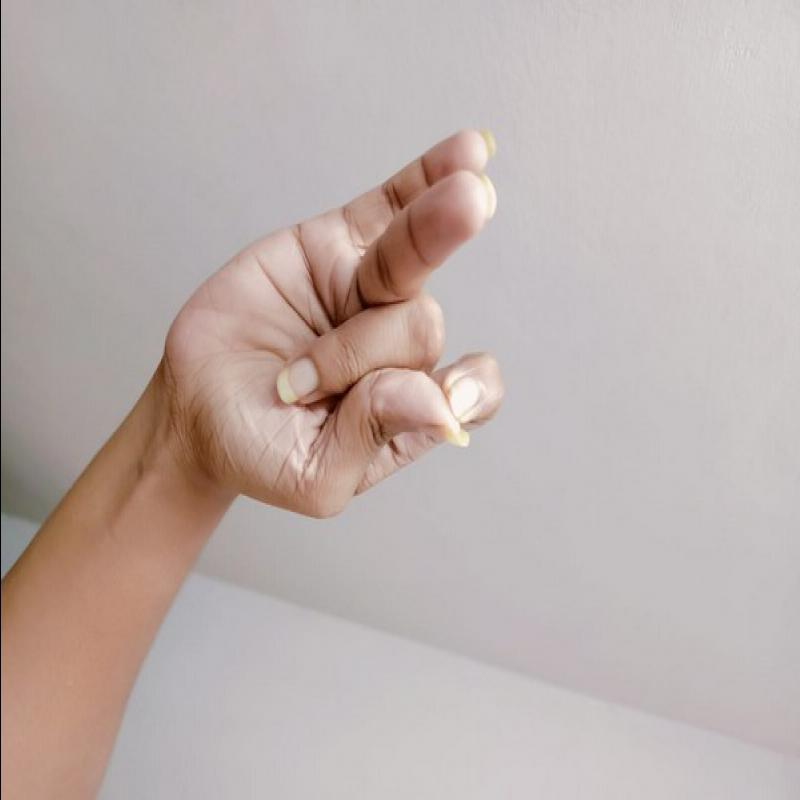Katakam: (158, 111, 562, 542)
